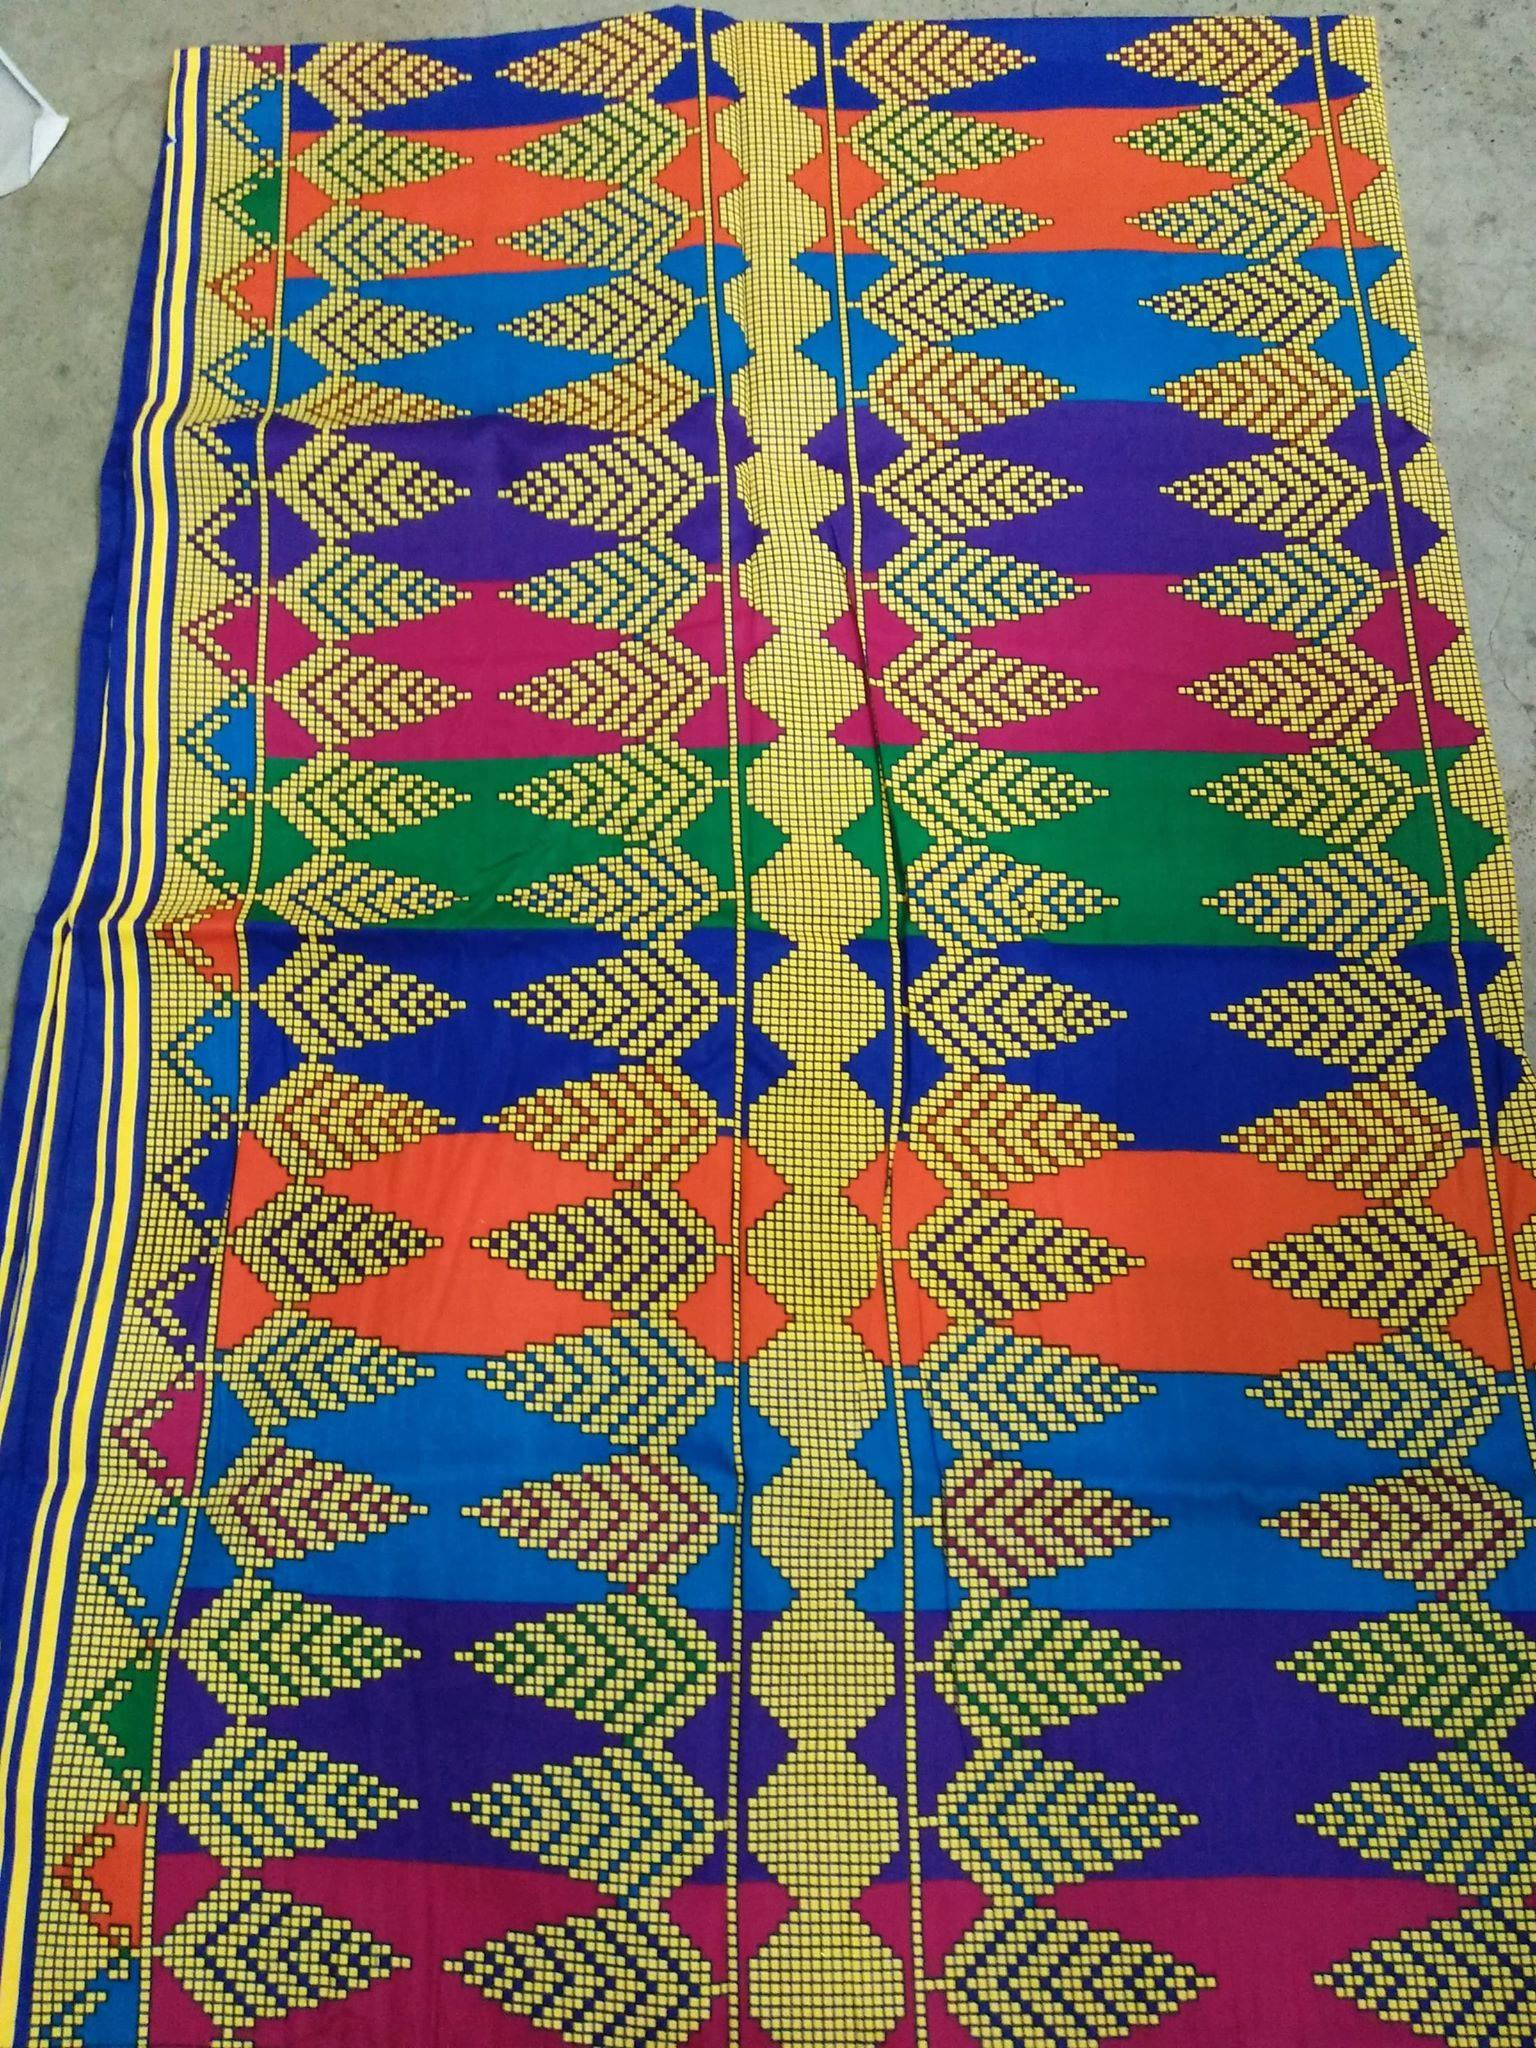malong: (0, 23, 1536, 2045)
